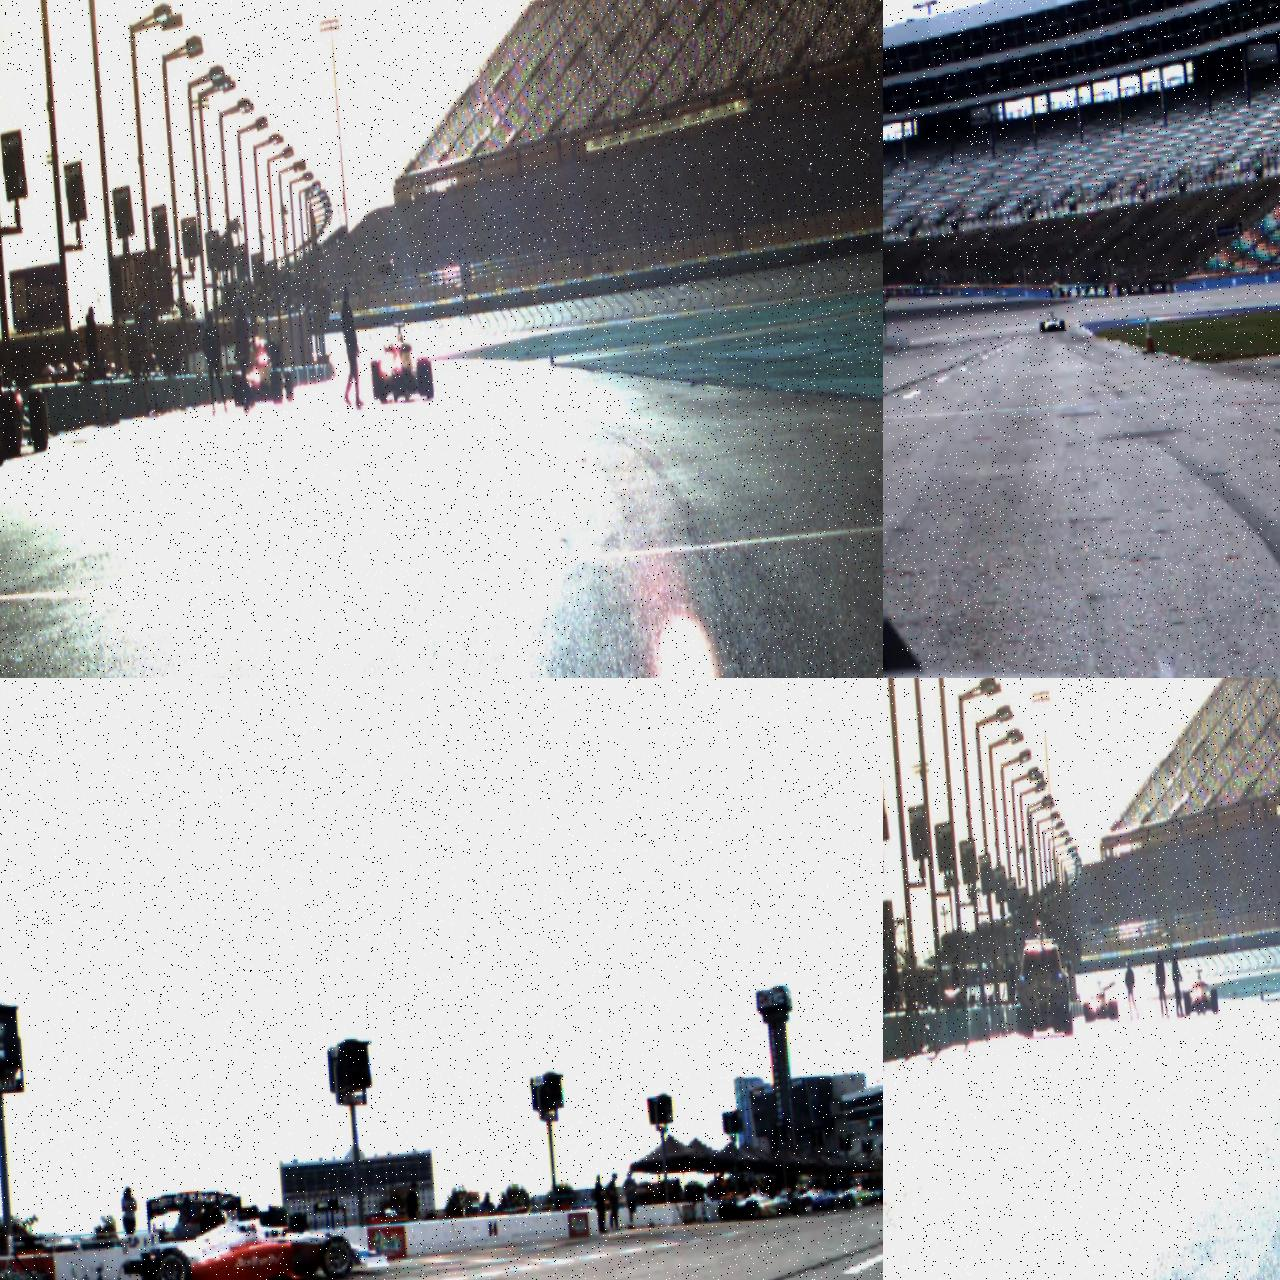AV: (136, 1186, 391, 1280), (368, 318, 434, 403), (230, 333, 294, 408), (1181, 968, 1219, 1015), (1082, 979, 1119, 1022), (1039, 311, 1066, 334)
Wheel: (319, 1229, 355, 1280), (0, 392, 23, 459), (28, 388, 50, 452), (152, 1246, 193, 1280), (416, 358, 432, 395), (0, 385, 7, 468), (371, 360, 384, 400), (270, 370, 284, 404), (232, 372, 245, 408), (284, 371, 294, 400), (1108, 1000, 1119, 1020), (1210, 988, 1218, 1013), (1184, 990, 1192, 1014), (1084, 1002, 1090, 1022), (1060, 320, 1066, 331), (1040, 322, 1046, 333)
